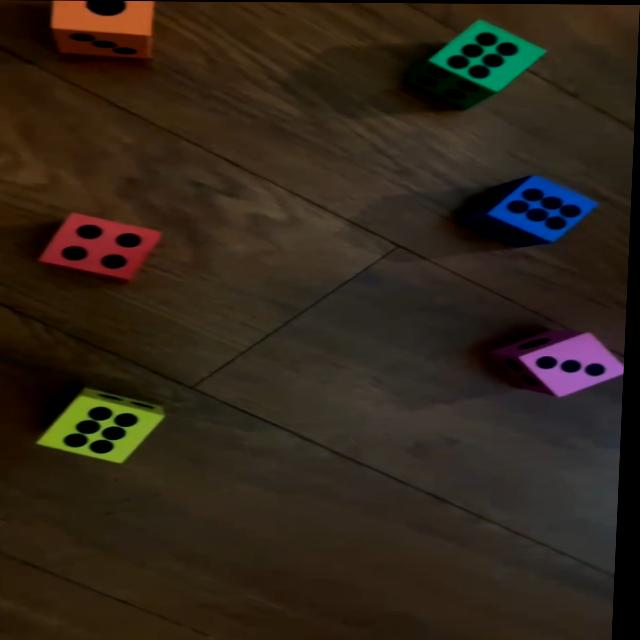cube: (412, 19, 551, 108), (463, 175, 605, 246), (42, 212, 164, 281)
